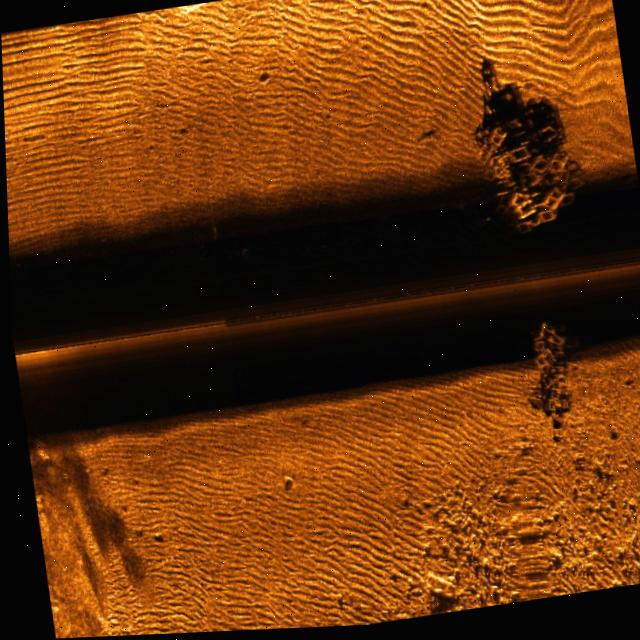artificial reef: (453, 95, 598, 248), (500, 316, 587, 422)
